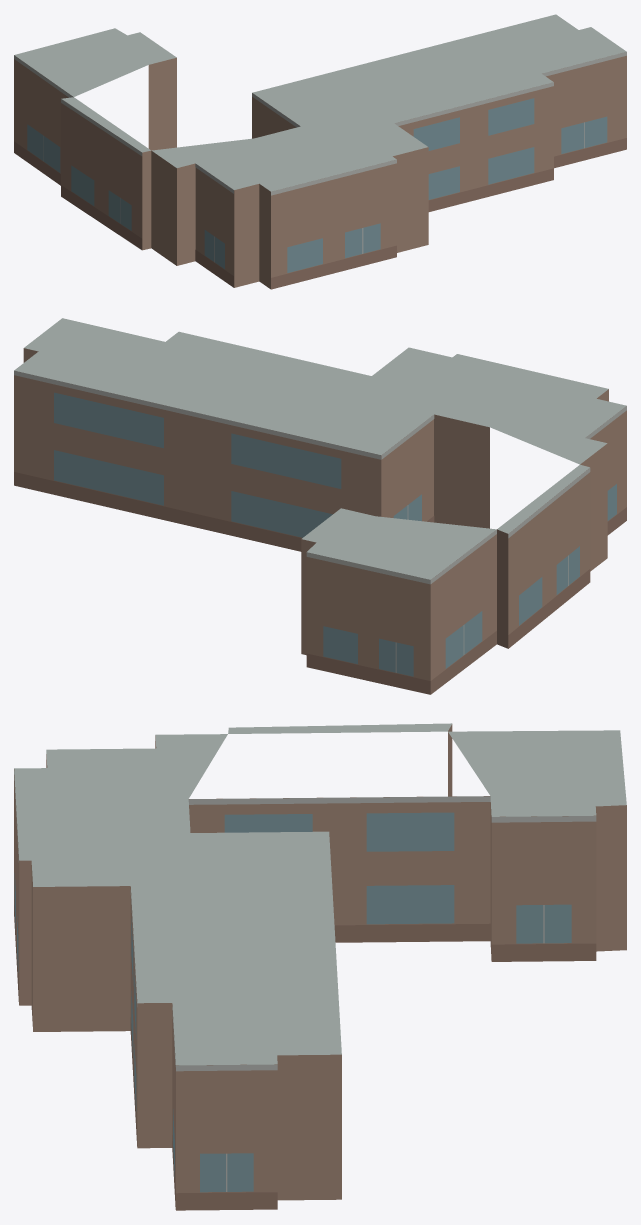
Rendered from survey-upis-32836810.glb.
3 renders of one model, top to bottom at view 1: azimuth 30°, elevation 25°; view 2: azimuth 150°, elevation 25°; view 3: azimuth 270°, elevation 25°, orthographic. The views are drawn at different scales.
Parts seen in each view (by area): view 1: survey-upis-32836810.tmp; view 2: survey-upis-32836810.tmp; view 3: survey-upis-32836810.tmp.
Part boxes in pixels (x1=…): survey-upis-32836810.tmp: x1=14, y1=14, x2=626, y2=289; survey-upis-32836810.tmp: x1=14, y1=318, x2=626, y2=694; survey-upis-32836810.tmp: x1=14, y1=723, x2=626, y2=1210.
Size of the model in its own units: 30.85 by 6.1 by 23.36.
